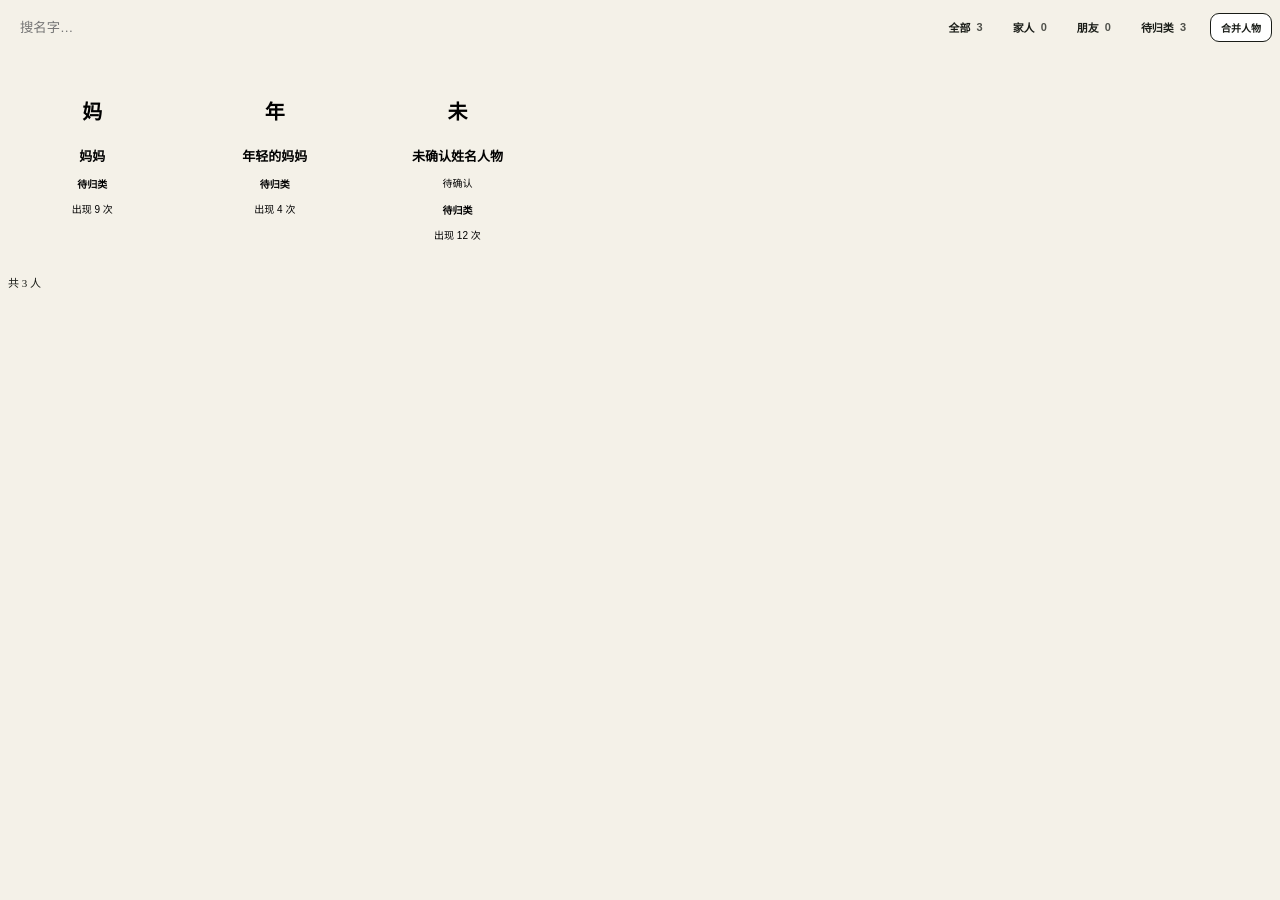
Scenario: 名录批量合并 › 合并失败时显示后端的错误，不关闭确认框
Click the button "合并人物" at (1241, 27), box [1210,12,1272,42]
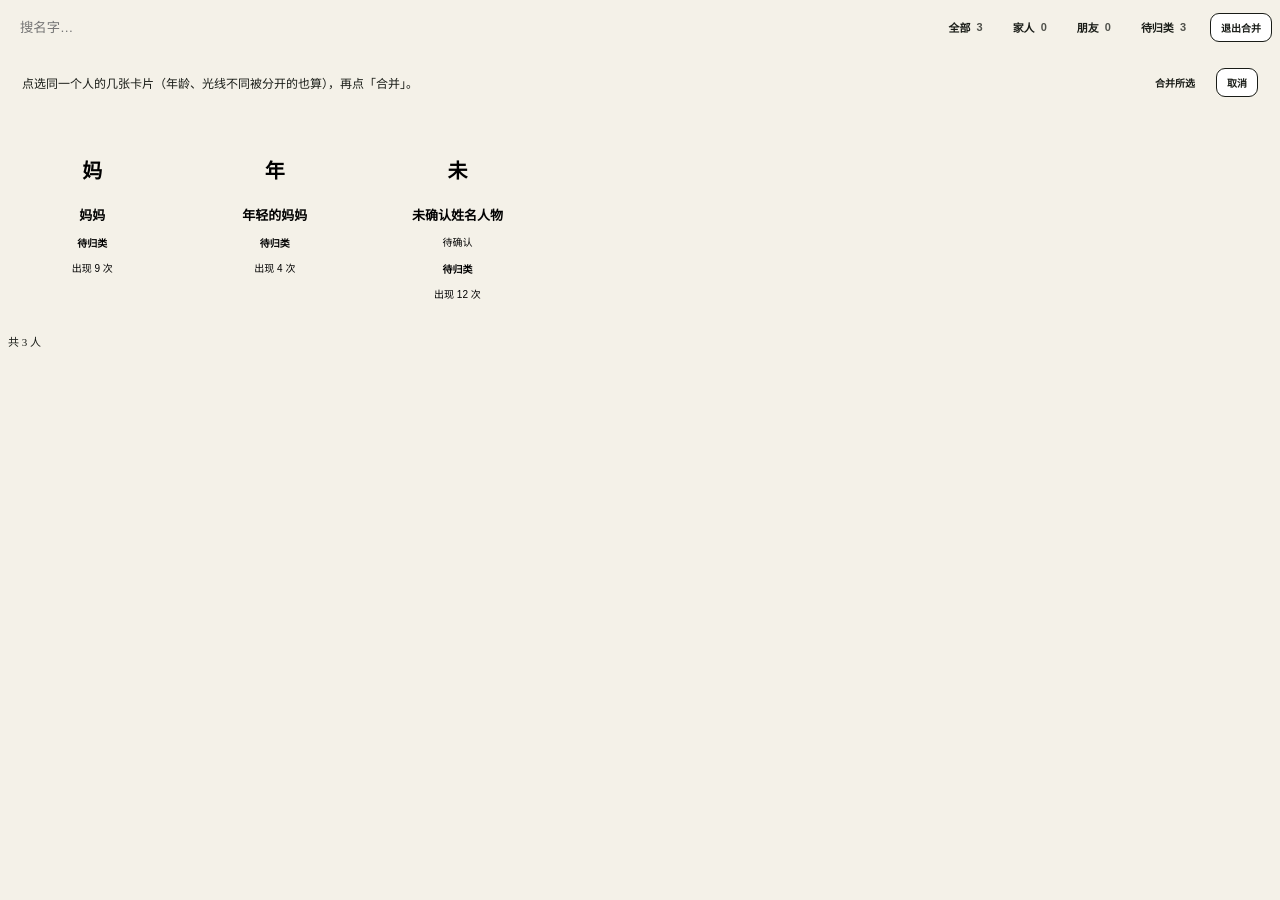
Click the button "妈 妈妈 待归类 出现 9 次" at (92, 208), box [8,123,177,293]
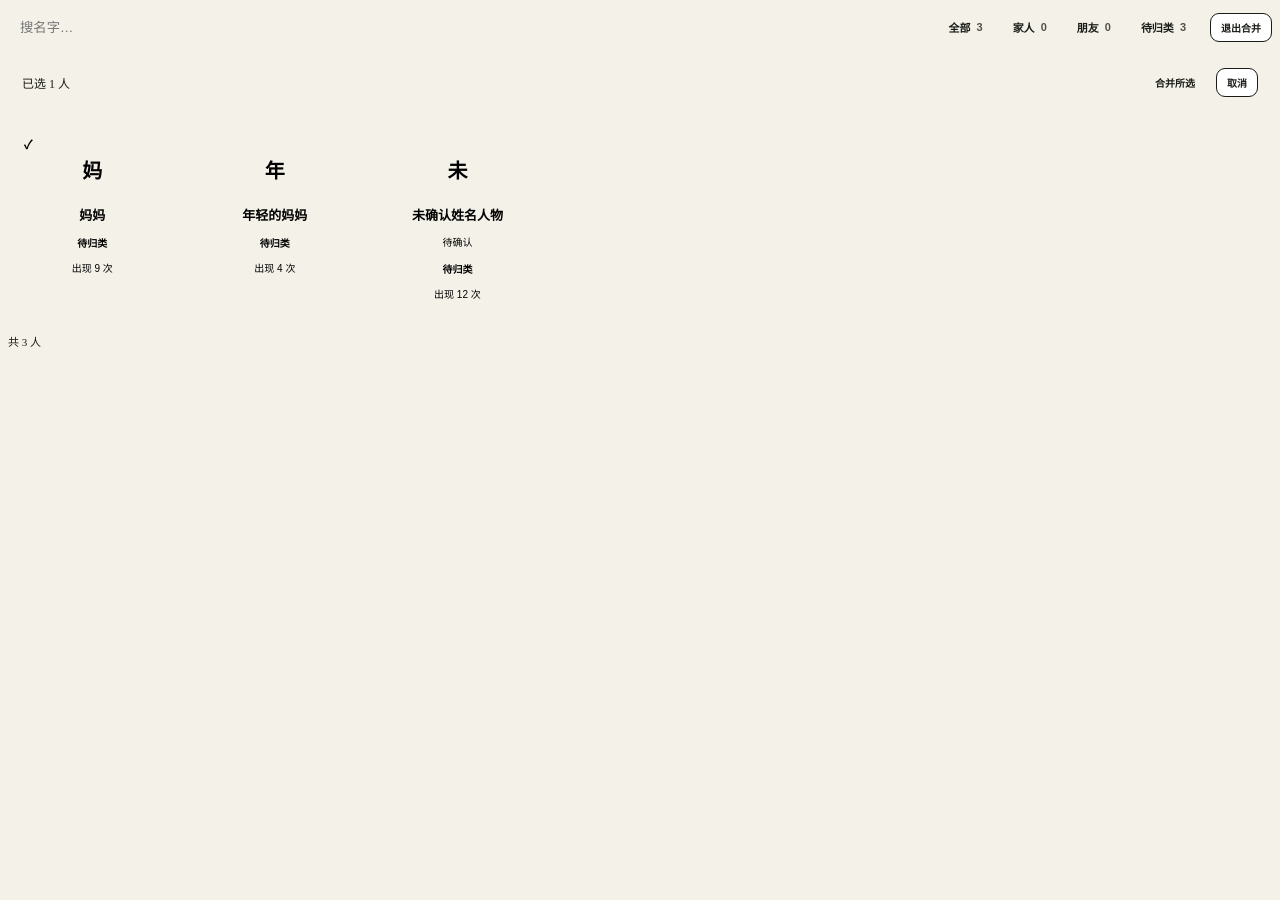
Click the button "年 年轻的妈妈 待归类 出现 4 次" at (275, 208), box [191,123,359,293]
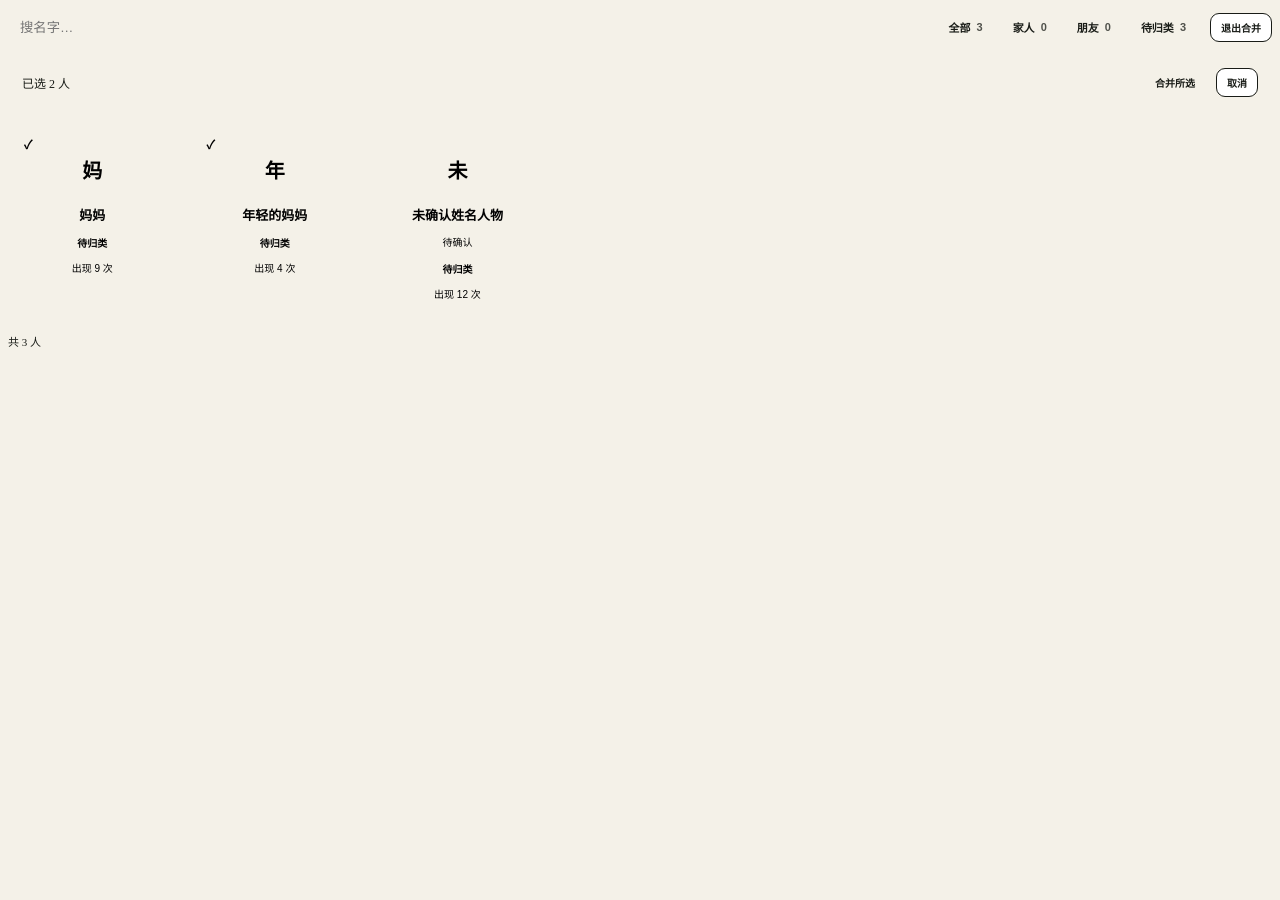
Click the button "合并所选" at (1175, 82), box [1144,68,1206,97]
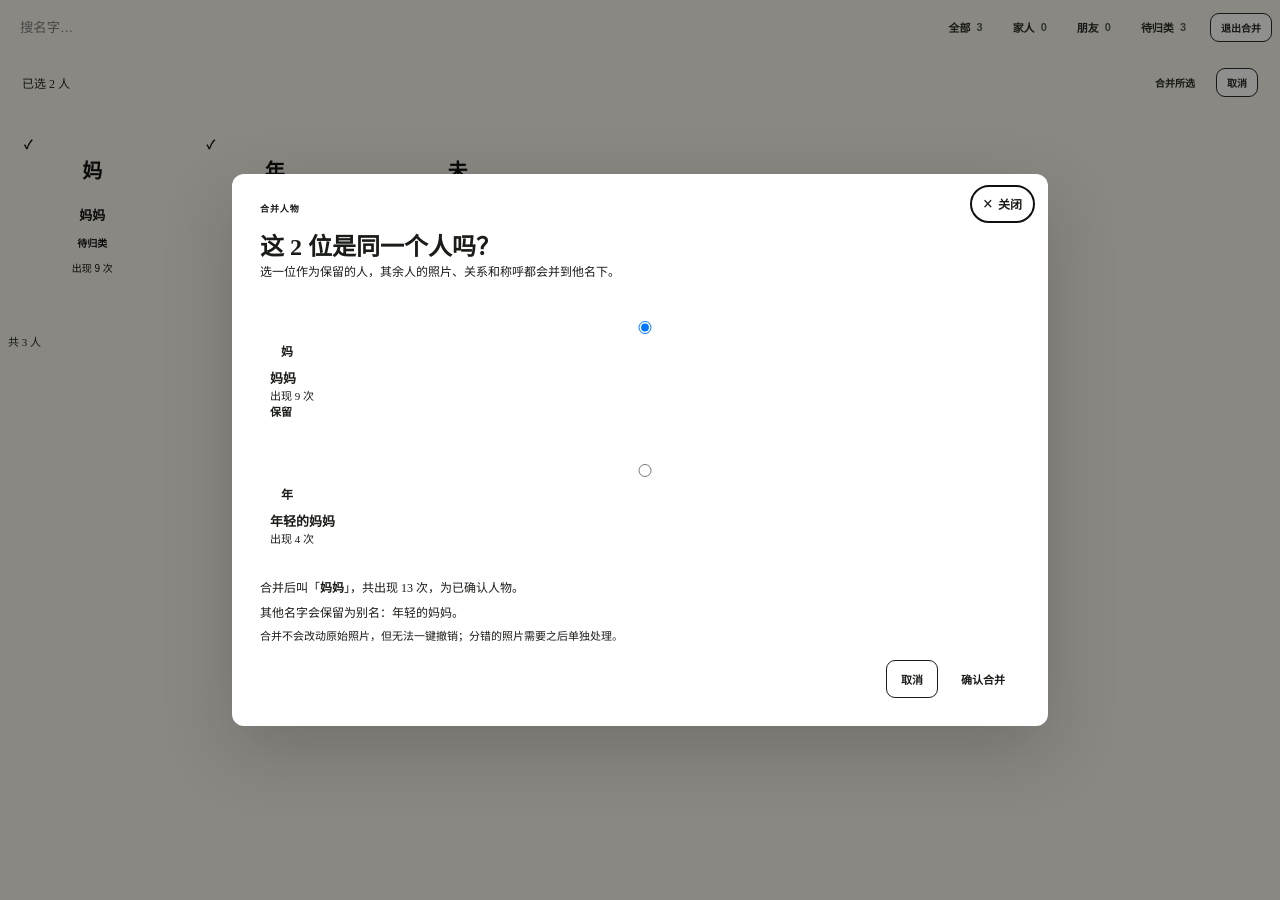
Click the button "确认合并" at (983, 679), box [946,660,1020,698]
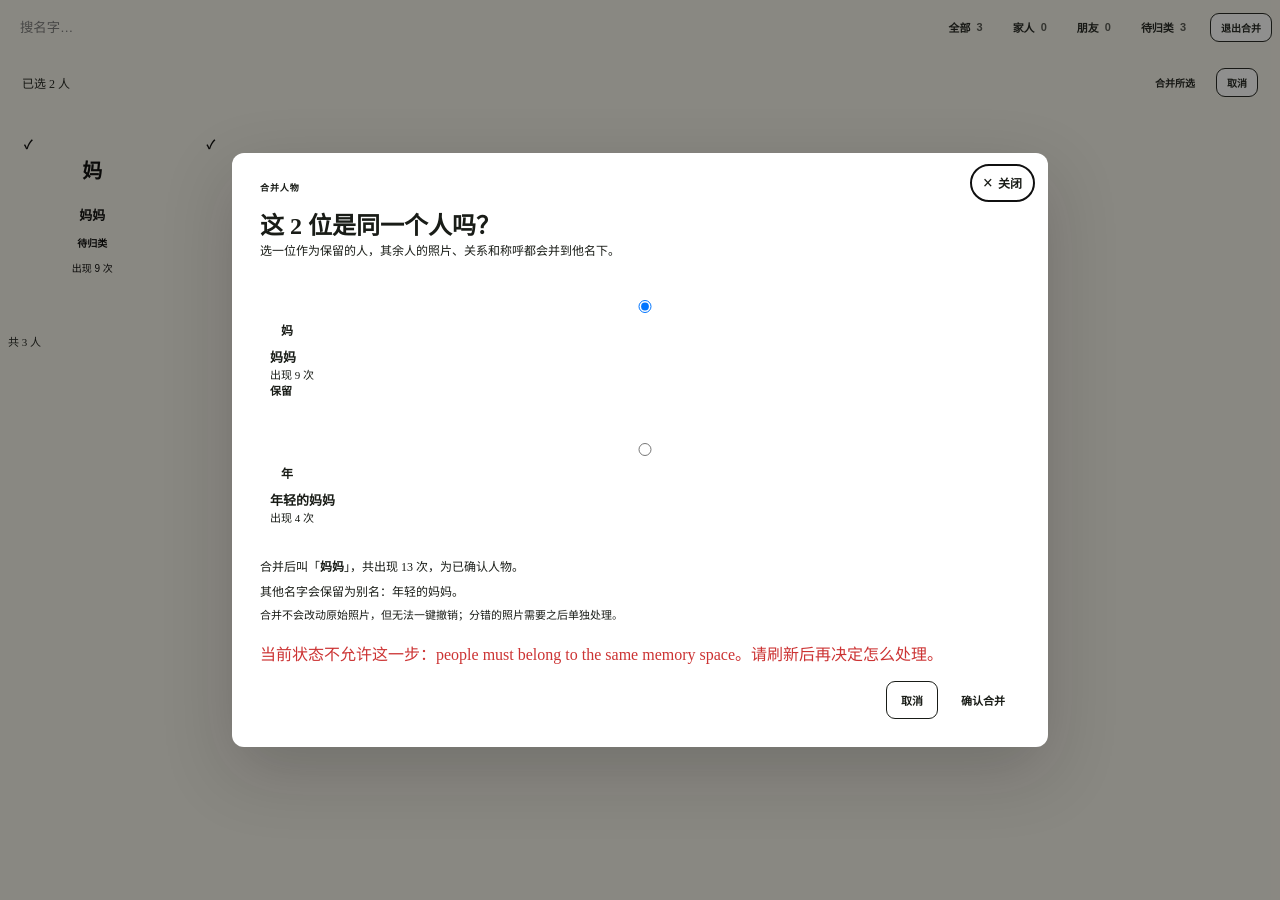
Expected: the dialog is shown, [232,153,1048,747]
Expected: the message shows "当前状态不允许这一步", [260,646,943,663]
